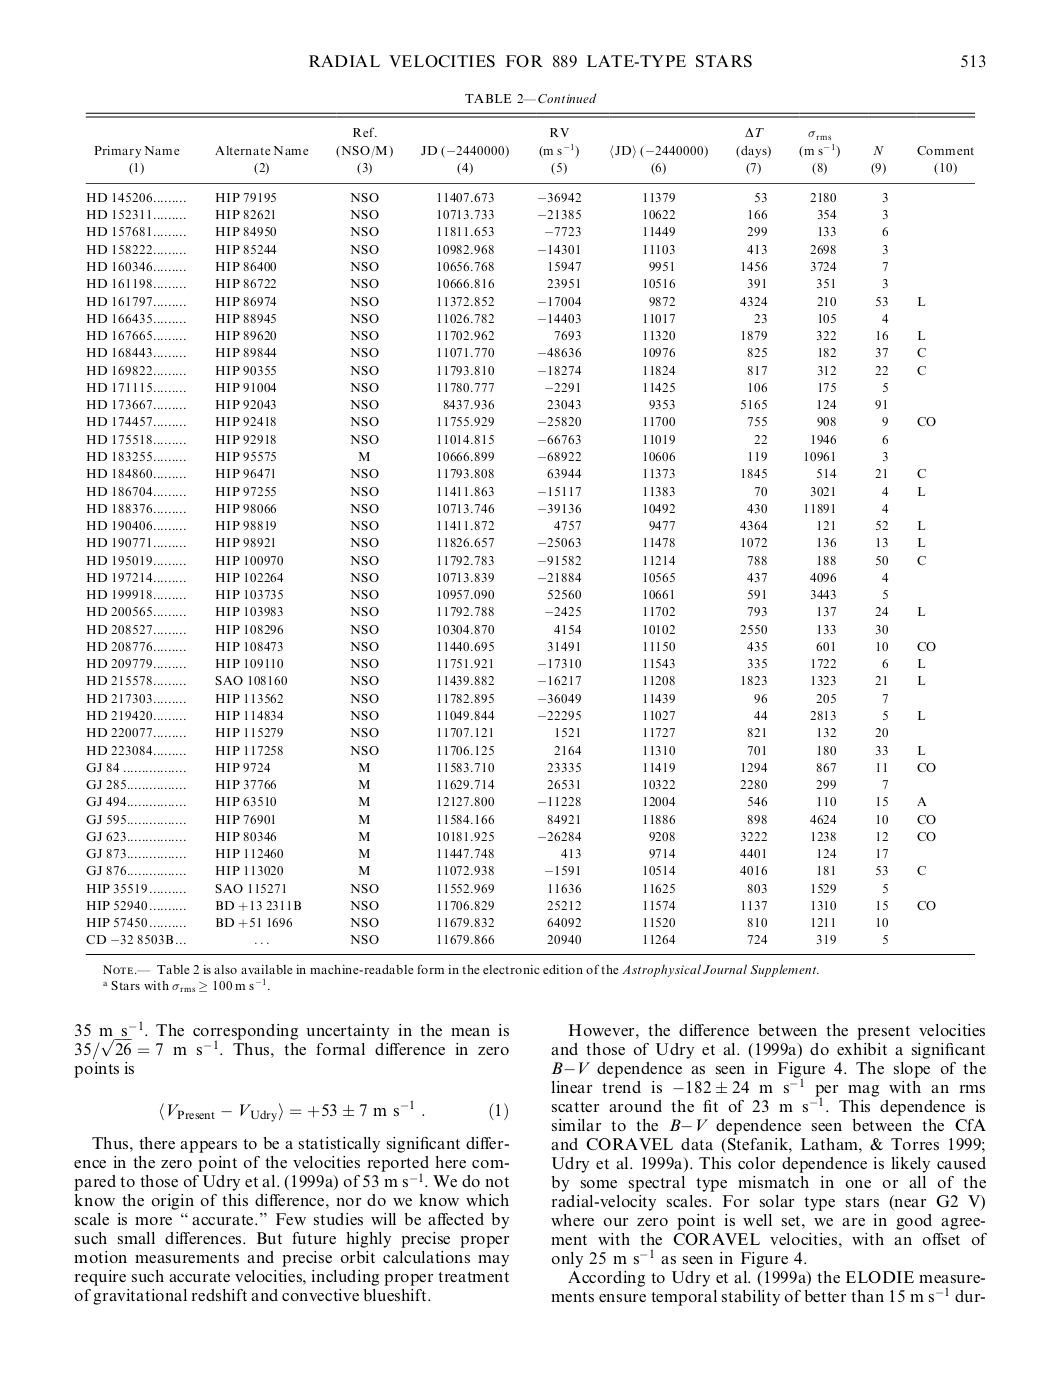Table: (85, 92, 974, 954)
formula: (159, 1099, 507, 1122)
